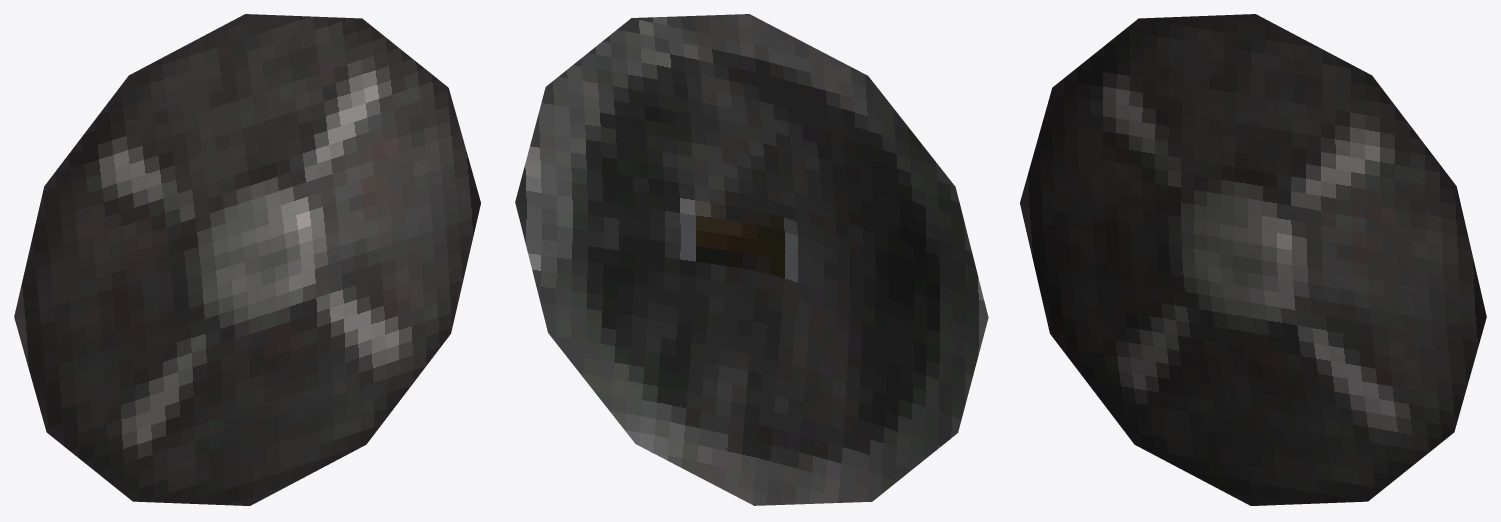
3 views of the same model, side by side, from view 1: azimuth 30°, elevation 25°; view 2: azimuth 150°, elevation 25°; view 3: azimuth 330°, elevation 25° (orthographic).
Visible parts, largest first — view 1: it209; view 2: it209; view 3: it209.
Part boxes in pixels (<box>): it209: <box>14,14,480,505</box>; it209: <box>515,14,988,505</box>; it209: <box>1020,14,1486,505</box>.
Bounding box in the file's own units: 1.52 × 1.52 × 0.1258.
Materials: 2 (2 with a texture image).
